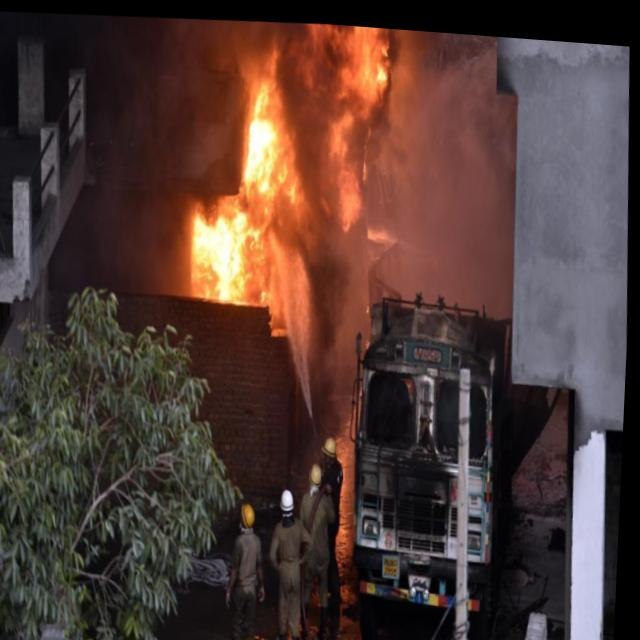fire: (174, 11, 407, 323)
